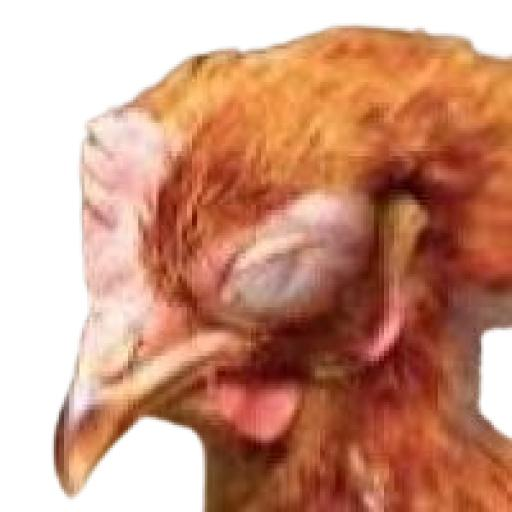disease: (154, 168, 384, 379)
